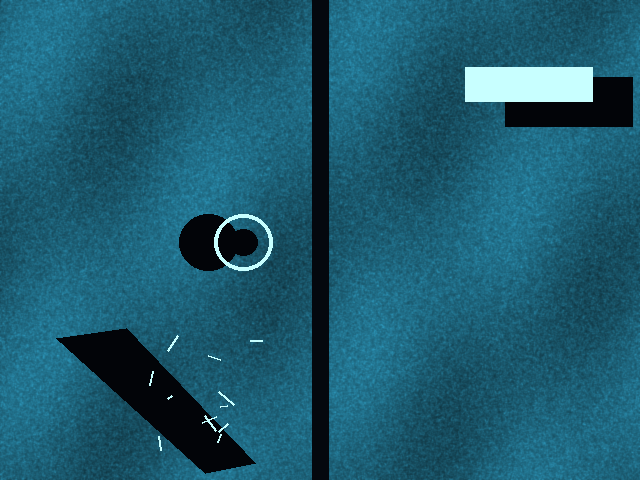Ghost Net: (116, 328, 265, 463)
Metal Object: (465, 67, 592, 101)
Tire: (214, 214, 272, 270)
